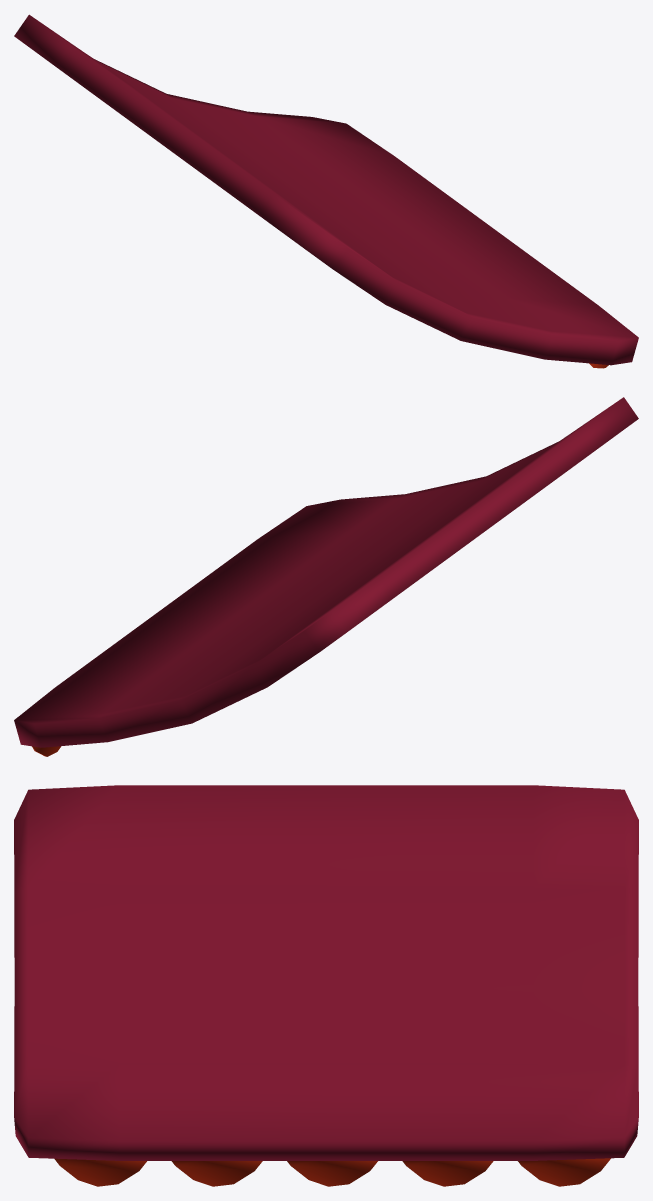
The model's file is Specal_roof.fbx.
3 renders of one model, top to bottom at view 1: azimuth 30°, elevation 25°; view 2: azimuth 150°, elevation 25°; view 3: azimuth 270°, elevation 25°, orthographic.
Parts seen in each view (by area): view 1: Specal_roof; view 2: Specal_roof; view 3: Specal_roof.
Part boxes in pixels (<box>): Specal_roof: <box>14,14,638,368</box>; Specal_roof: <box>14,397,638,756</box>; Specal_roof: <box>14,785,638,1186</box>.
Bounding box in the file's own units: 178 × 121 × 278.
